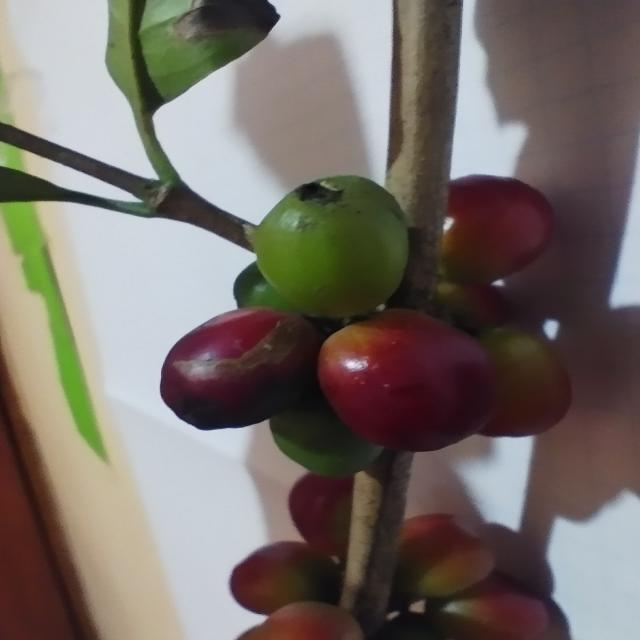Danado: (161, 308, 325, 430)
Infectado: (253, 175, 407, 318)
Sano: (318, 310, 495, 452), (441, 175, 554, 284), (477, 326, 571, 437), (391, 514, 494, 609), (426, 571, 549, 640)
